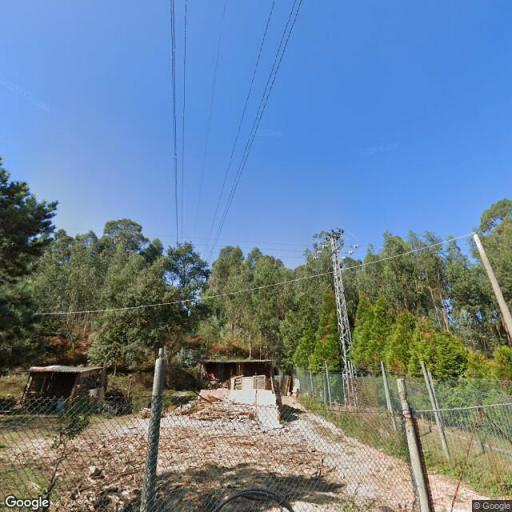ss_1: (310, 223, 369, 413)
